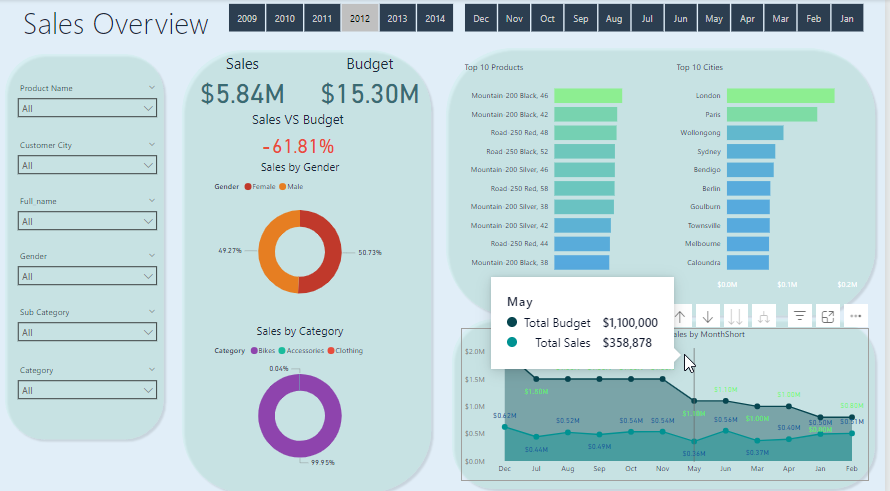

The page's visual inventory and layout, read from the dashboard file:
{"tool":"powerbi","page":{"name":"Sales Overview","canvas":[1280,720],"ordinal":0},"visuals":[{"type":"textbox","box":[10,0,315,103.3],"z":0},{"type":"shape","box":[0,72.6,243.9,571.6],"z":500,"group":"g2"},{"type":"slicer","fields":{"Values":["Dim_Dates.MonthShort"]},"box":[645.7,0,625.7,54.3],"z":1000},{"type":"slicer","fields":{"Values":["Dim_Dates.Year"]},"box":[305.7,0,374.3,54.3],"z":2000},{"type":"group","id":"g1","title":"Group 1","box":[638.1,63.7,634.8,401.1],"z":3000},{"type":"group","id":"g2","title":"Group 2","box":[0,72.6,243.9,571.6],"z":4000},{"type":"slicer","fields":{"Values":["Dim_product.Product Name"]},"box":[15.7,115.7,221.4,64.3],"z":4000,"group":"g2"},{"type":"shape","box":[255.7,66.1,374.7,653.9],"z":5000},{"type":"slicer","fields":{"Values":["Dim_Customers.Customer City"]},"box":[15.7,198.6,221.4,62.9],"z":5000,"group":"g2"},{"type":"slicer","fields":{"Values":["Dim_Customers.Full_name"]},"box":[15.7,280,221.4,64.3],"z":6000,"group":"g2"},{"type":"donutChart","title":"Sales by Category","fields":{"Y":["Calculation group.Total Sales"],"Category":["Dim_product.Category"]},"box":[305.7,468.6,257.1,220],"z":6000},{"type":"donutChart","title":"Sales by Gender","fields":{"Y":["Calculation group.Total Sales"],"Category":["Dim_Customers.Gender"]},"box":[305.7,231.4,257.1,220],"z":7000},{"type":"slicer","fields":{"Values":["Dim_Customers.Gender"]},"box":[15.7,358.6,221.4,68.6],"z":7000,"group":"g2"},{"type":"slicer","fields":{"Values":["Dim_product.Sub Category"]},"box":[15.7,440,221.4,65.7],"z":8000,"group":"g2"},{"type":"shape","box":[645.7,455.7,625.7,260],"z":8000},{"type":"card","title":"Sales","fields":{"Values":["Calculation group.Total Sales"]},"box":[268.6,78.6,162.9,81.4],"z":9000},{"type":"slicer","fields":{"Values":["Dim_product.Category"]},"box":[15.7,523.7,221.4,77.1],"z":9000,"group":"g2"},{"type":"lineChart","fields":{"Category":["Dim_Dates.Year","Dim_Dates.MonthShort"],"Y":["Calculation group.Total Budget","Calculation group.Total Sales"]},"box":[667.1,475.7,588.6,221.4],"z":10000},{"type":"shape","box":[638.1,63.7,634.8,401.1],"z":10500,"group":"g1"},{"type":"card","title":"Budget","fields":{"Values":["Calculation group.Total Budget"]},"box":[454.3,78.6,161.4,81.4],"z":11000},{"type":"clusteredBarChart","title":"Top 10 Cities","fields":{"Category":["Dim_Customers.Customer City"],"Y":["Calculation group.Total Sales"]},"box":[973.1,90.1,271.8,340.9],"z":11000,"group":"g1"},{"type":"card","title":"Sales VS Budget","fields":{"Values":["Calculation group.Sale VS Budget %"]},"box":[357.1,160,147.1,74.3],"z":12000},{"type":"clusteredBarChart","title":"Top 10 Products","fields":{"Y":["Calculation group.Total Sales"],"Category":["Dim_product.Product Name"]},"box":[667.5,90.1,293.9,340.9],"z":13000,"group":"g1"}]}

Visuals, with their boxes in screenshot pixels (x1, y1, x2, y2), scaled from the page's 1280x720 canvas onto the 890x491 screenshot:
textbox: 7,0,226,70
shape: 0,50,170,439
slicer - Dim_Dates.MonthShort: 449,0,884,37
slicer - Dim_Dates.Year: 213,0,473,37
"Group 1" group: 444,43,885,317
"Group 2" group: 0,50,170,439
slicer - Dim_product.Product Name: 11,79,165,123
shape: 178,45,438,490
slicer - Dim_Customers.Customer City: 11,135,165,178
slicer - Dim_Customers.Full_name: 11,191,165,235
"Sales by Category" donutChart: 213,320,391,470
"Sales by Gender" donutChart: 213,158,391,308
slicer - Dim_Customers.Gender: 11,245,165,291
slicer - Dim_product.Sub Category: 11,300,165,345
shape: 449,311,884,488
"Sales" card: 187,54,300,109
slicer - Dim_product.Category: 11,357,165,410
lineChart - Dim_Dates.Year x Dim_Dates.MonthShort: 464,324,873,475
shape: 444,43,885,317
"Budget" card: 316,54,428,109
"Top 10 Cities" clusteredBarChart: 677,61,866,294
"Sales VS Budget" card: 248,109,351,160
"Top 10 Products" clusteredBarChart: 464,61,668,294
